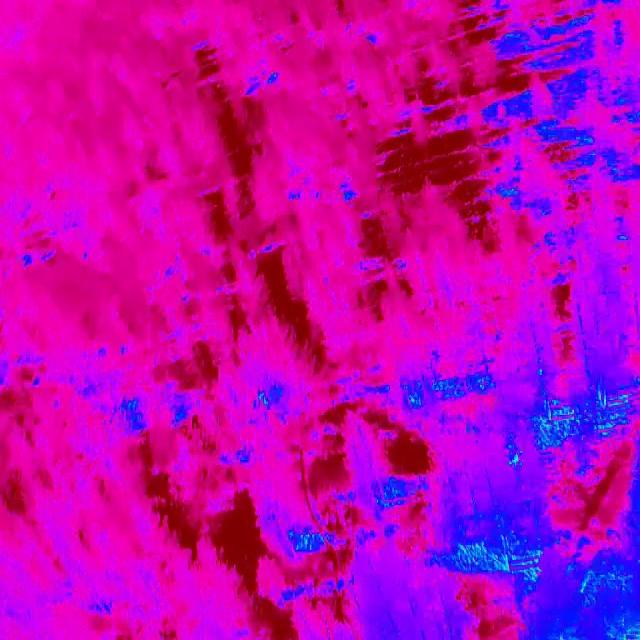fire: (534, 387, 640, 455), (450, 529, 551, 587), (397, 366, 496, 409), (568, 566, 630, 602), (285, 526, 330, 559), (502, 437, 526, 474), (376, 480, 400, 510), (607, 619, 640, 640), (252, 390, 274, 412), (614, 232, 630, 244), (535, 366, 548, 380)
